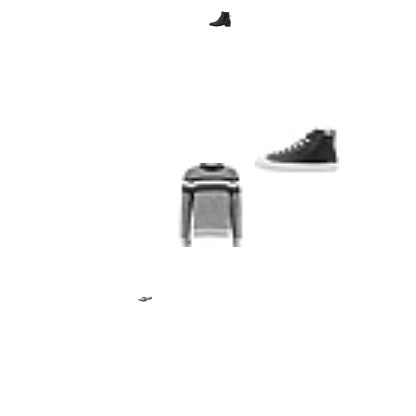4: (278, 121, 362, 205)
5: (121, 324, 177, 380)
8: (368, 225, 390, 247)
Bag: (282, 38, 324, 80)
Dress: (370, 400, 384, 414)
